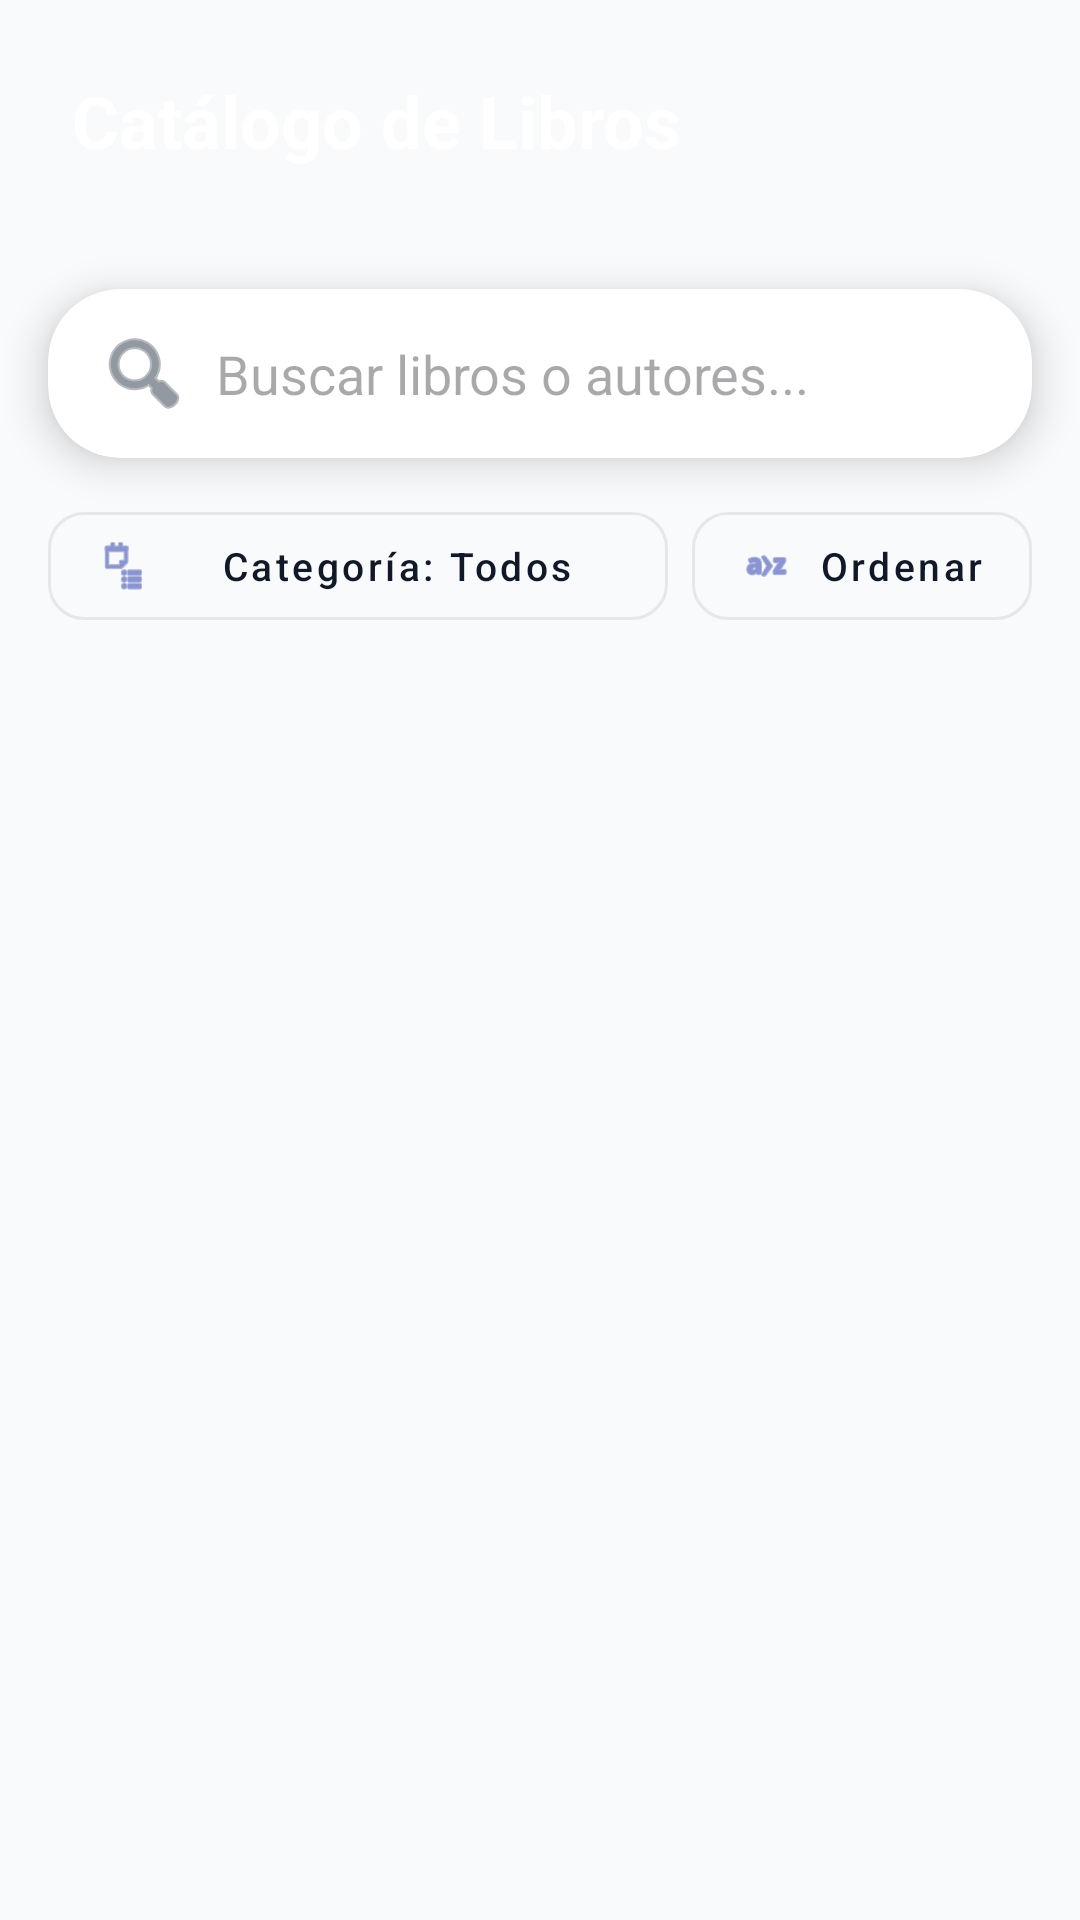

Icon bounding boxes for this 1080x1920 phone screenshot, format (x1, y1, x2, y2):
search: (109, 338, 179, 409)
